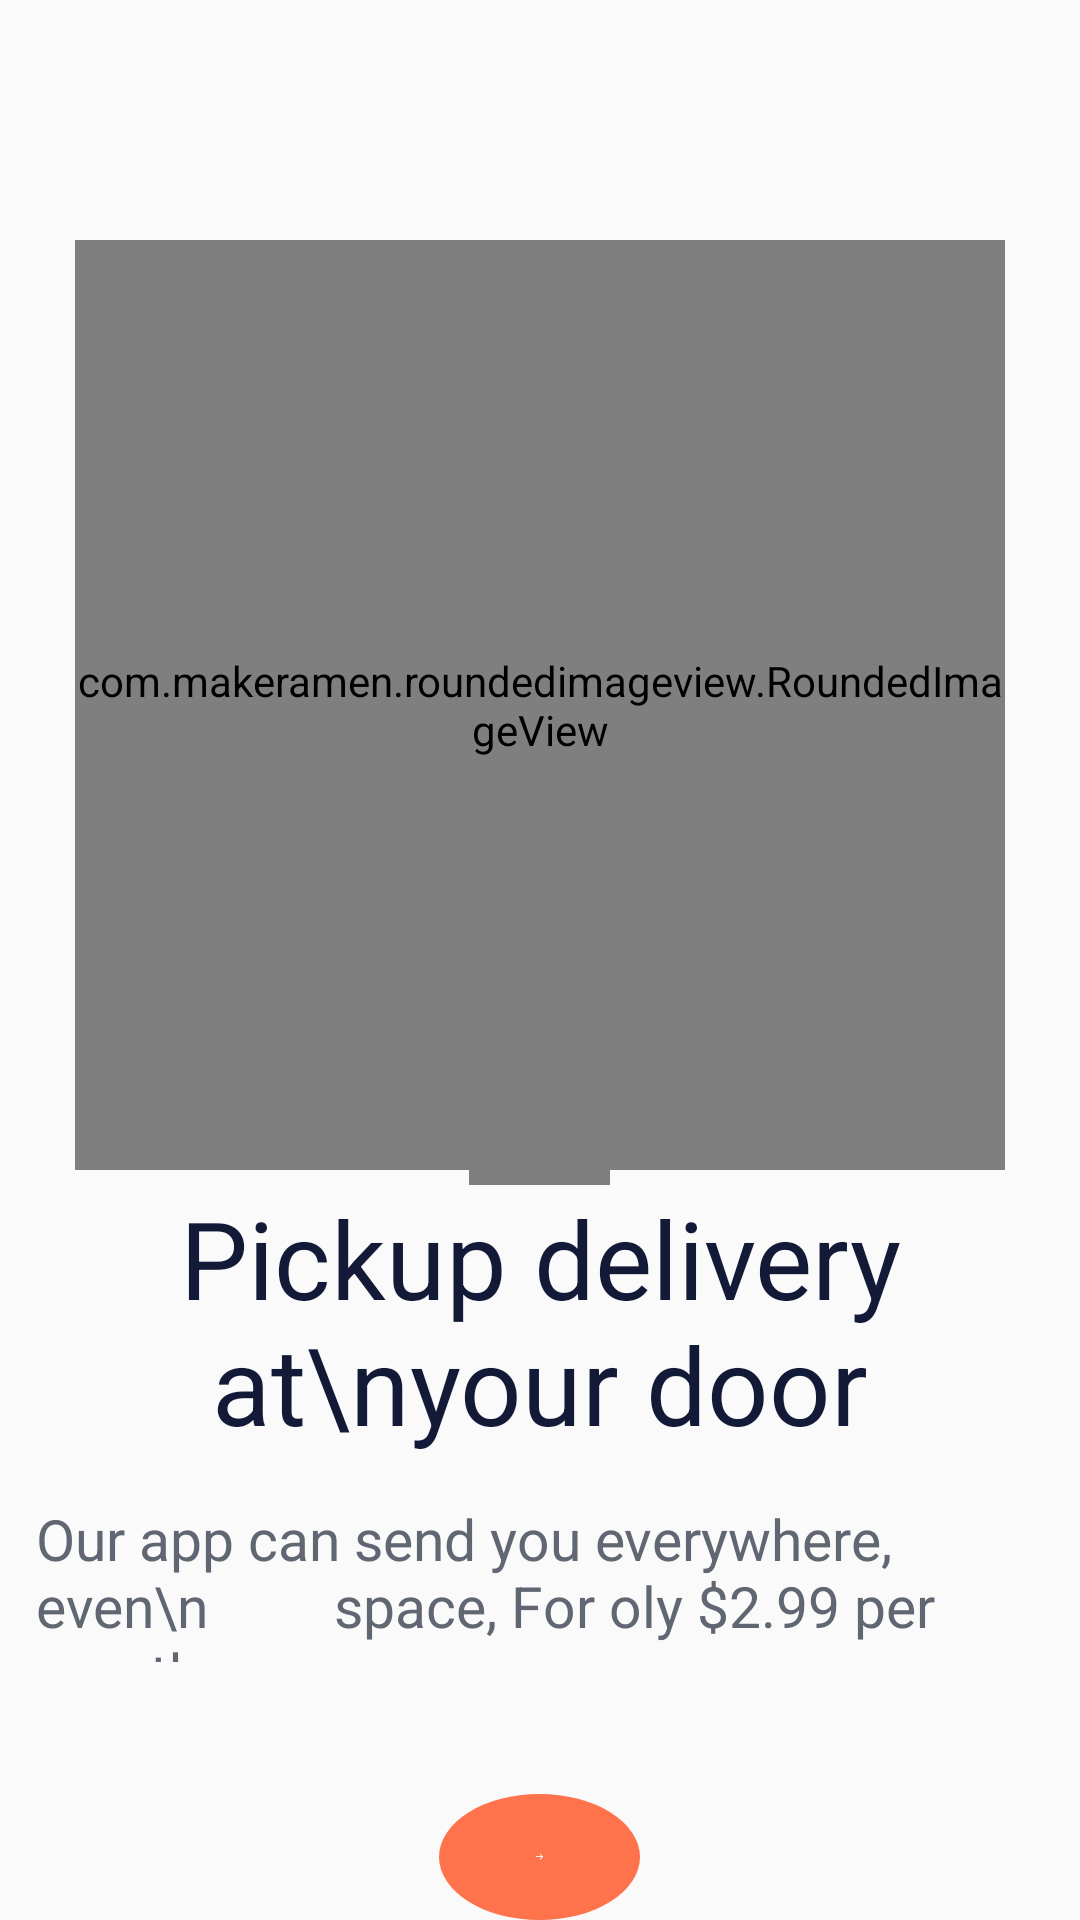

Icon bounding boxes for this 1080*1920 phone screenshot, format {"x1": x1, "y1": y1, "x2": x2, "y2": y2}:
forwardar: {"x1": 439, "y1": 1794, "x2": 640, "y2": 1920}
